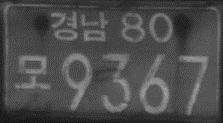0: (148, 12, 174, 43)
3: (99, 51, 133, 114)
6: (137, 51, 171, 115)
7: (174, 53, 211, 117)
8: (120, 10, 146, 43)
9: (61, 51, 94, 114)
경남_O: (49, 9, 107, 42)
모: (12, 53, 52, 91)
